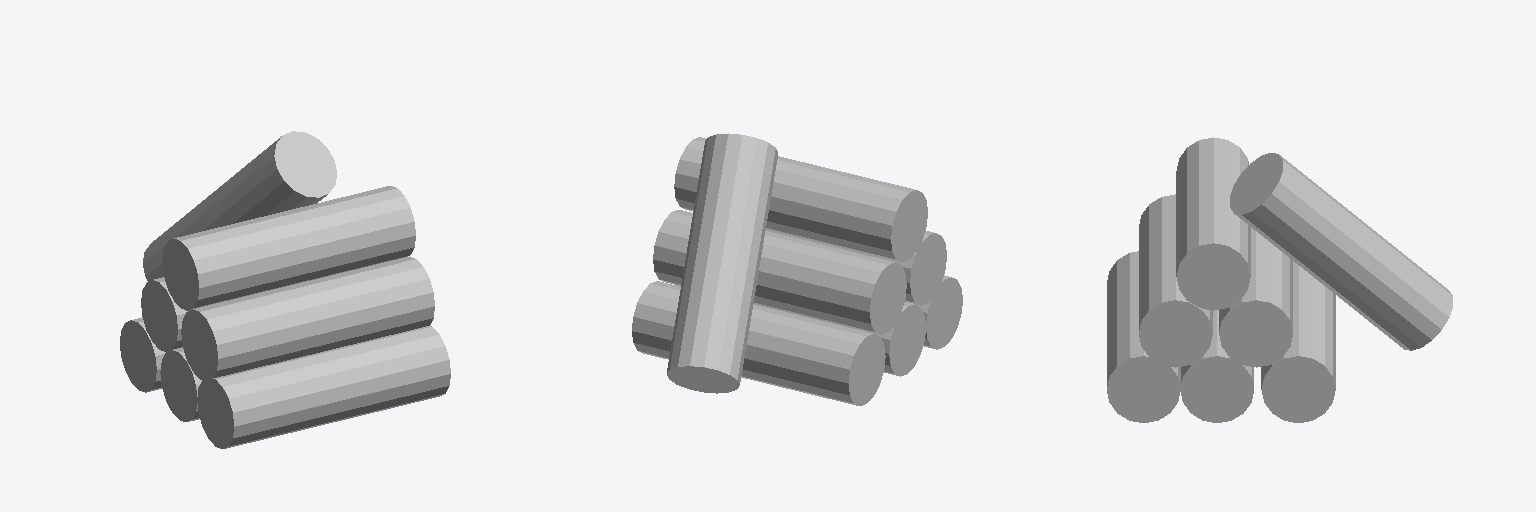
The model's file is WoodStack.obj.
3 views of the same model, side by side, from view 1: azimuth 30°, elevation 25°; view 2: azimuth 150°, elevation 25°; view 3: azimuth 270°, elevation 25° (orthographic).
Visible parts, largest first — view 1: WoodLog.005, WoodLog.004, WoodLog, WoodLog.006, WoodLog.002, WoodLog.003, WoodLog.001; view 2: WoodLog.006, WoodLog.003, WoodLog.005, WoodLog.002, WoodLog.004, WoodLog.001, WoodLog; view 3: WoodLog.006, WoodLog.005, WoodLog.004, WoodLog.002, WoodLog, WoodLog.003, WoodLog.001.
Boxes of the visible parts, <box> form: WoodLog.005: <box>162,186,415,310</box>; WoodLog.004: <box>181,256,434,379</box>; WoodLog: <box>197,326,450,448</box>; WoodLog.006: <box>143,131,336,281</box>; WoodLog.002: <box>120,317,165,392</box>; WoodLog.003: <box>141,277,187,351</box>; WoodLog.001: <box>160,347,201,421</box>; WoodLog.006: <box>667,133,777,393</box>; WoodLog.003: <box>653,210,906,334</box>; WoodLog.005: <box>674,137,927,262</box>; WoodLog.002: <box>632,281,885,405</box>; WoodLog.004: <box>766,229,946,305</box>; WoodLog.001: <box>676,285,925,376</box>; WoodLog: <box>916,275,962,349</box>; WoodLog.006: <box>1230,153,1452,350</box>; WoodLog.005: <box>1176,137,1250,310</box>; WoodLog.004: <box>1139,194,1212,367</box>; WoodLog.002: <box>1261,261,1335,422</box>; WoodLog: <box>1107,251,1180,422</box>; WoodLog.003: <box>1219,227,1292,367</box>; WoodLog.001: <box>1180,310,1253,422</box>.
Bounding box in the file's own units: 6.3 × 6.36 × 8.73.